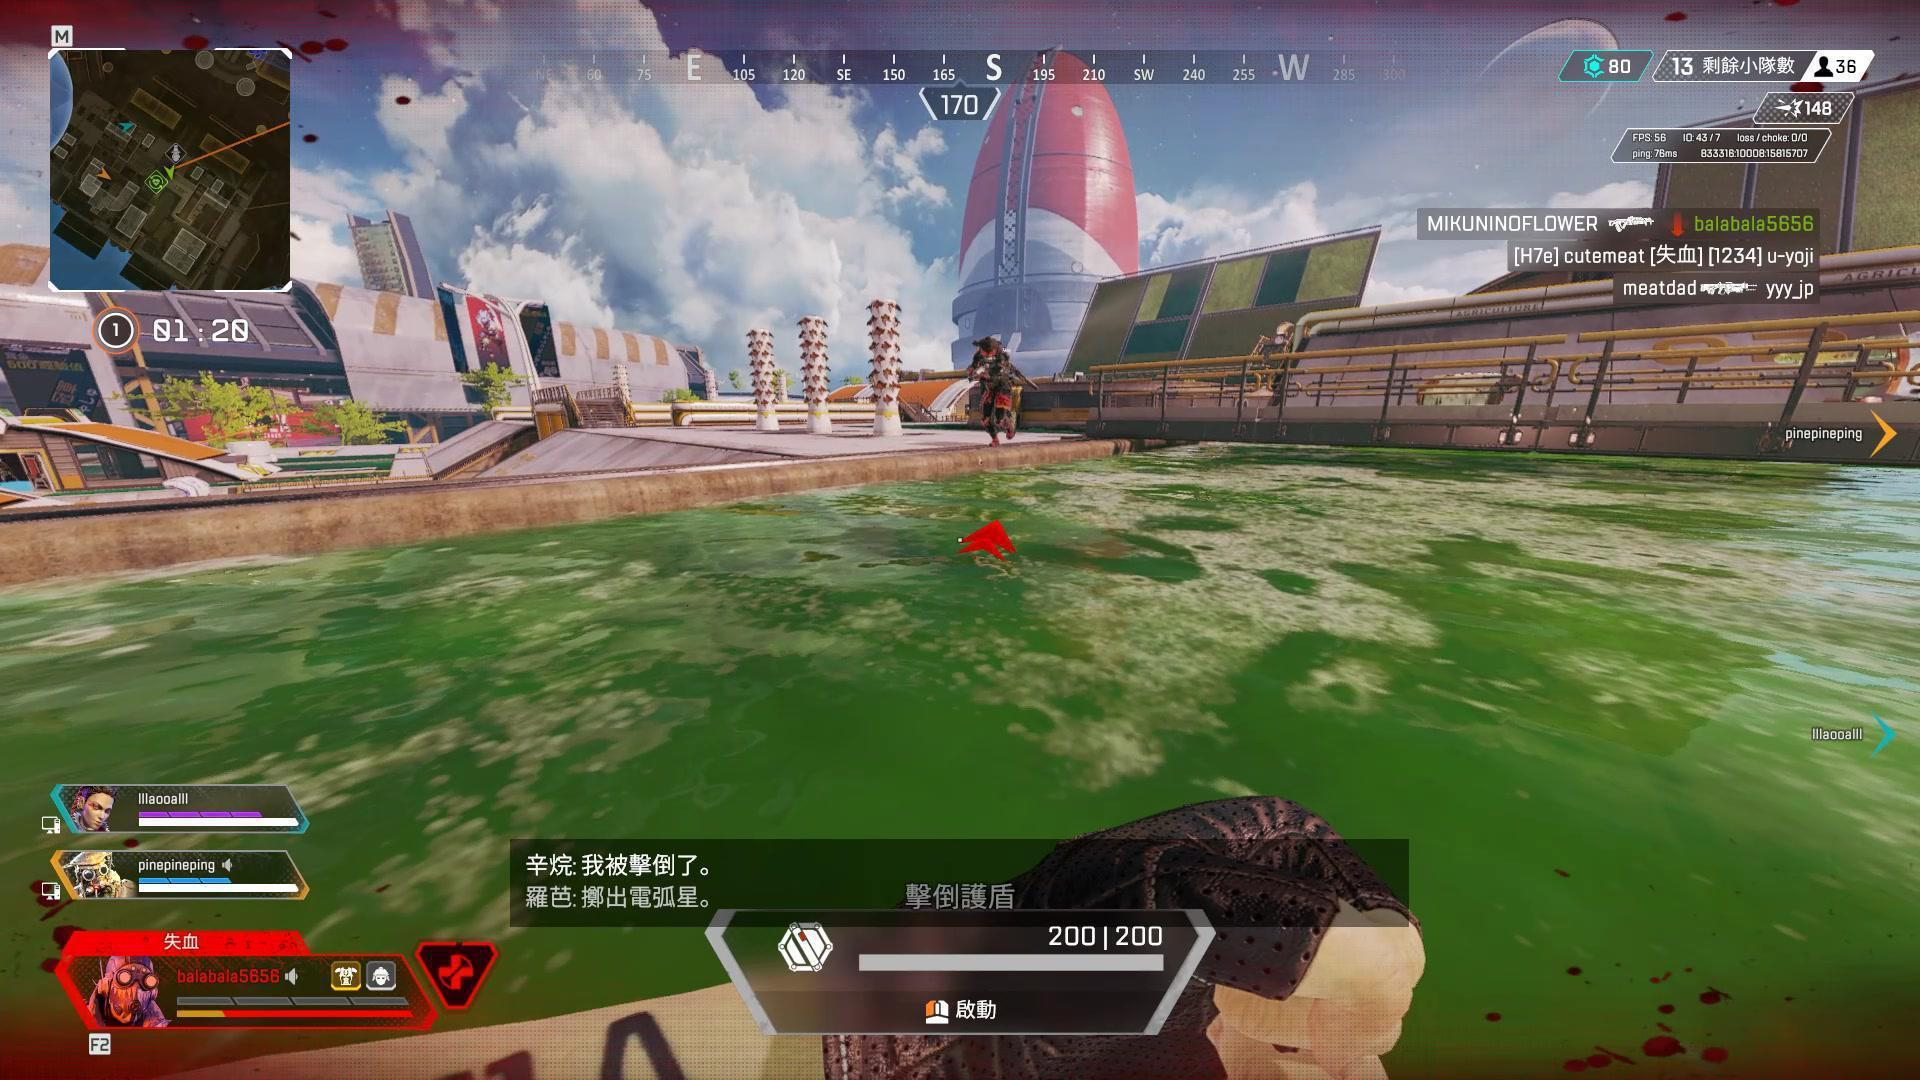avatar: (964, 336, 1019, 448)
